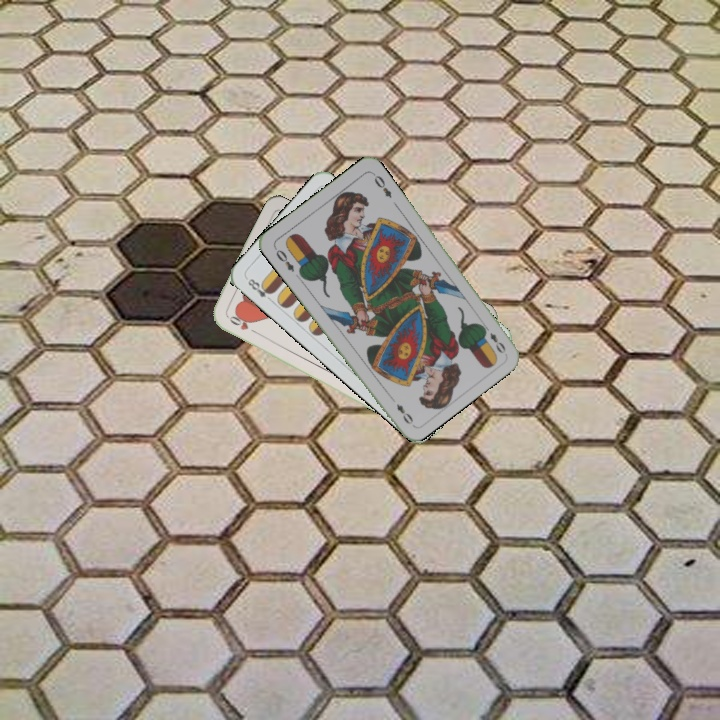E8: (244, 274, 276, 305)
EO: (479, 321, 509, 356), (270, 243, 297, 274)
HO: (223, 311, 260, 337)
